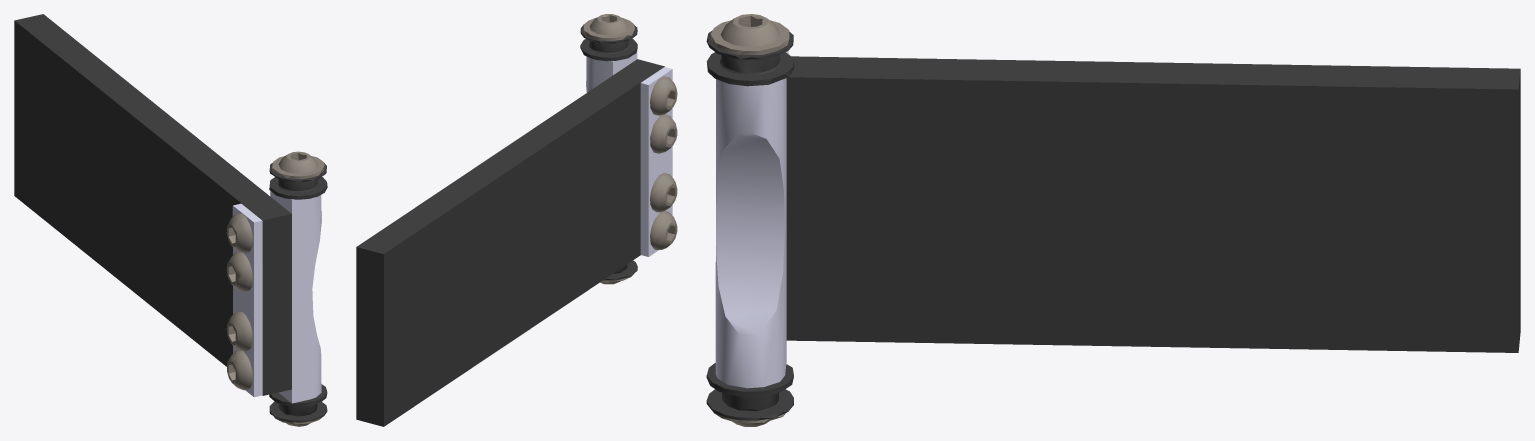
The model's file is left-knee-spring.obj.
The picture shows the model from 3 angles, left to right: view 1: azimuth 30°, elevation 25°; view 2: azimuth 150°, elevation 25°; view 3: azimuth 270°, elevation 25°; orthographic projection. The views are drawn at different scales.
Visible parts, largest first — view 1: left_knee_spring; view 2: left_knee_spring; view 3: left_knee_spring.
Part boxes in pixels (bbox=[...]): left_knee_spring: bbox=[14, 14, 327, 426]; left_knee_spring: bbox=[356, 14, 677, 426]; left_knee_spring: bbox=[706, 14, 1520, 426].
Bounding box in the file's own units: 0.027 × 0.0756 × 0.14.
1 material, 1 textured.
